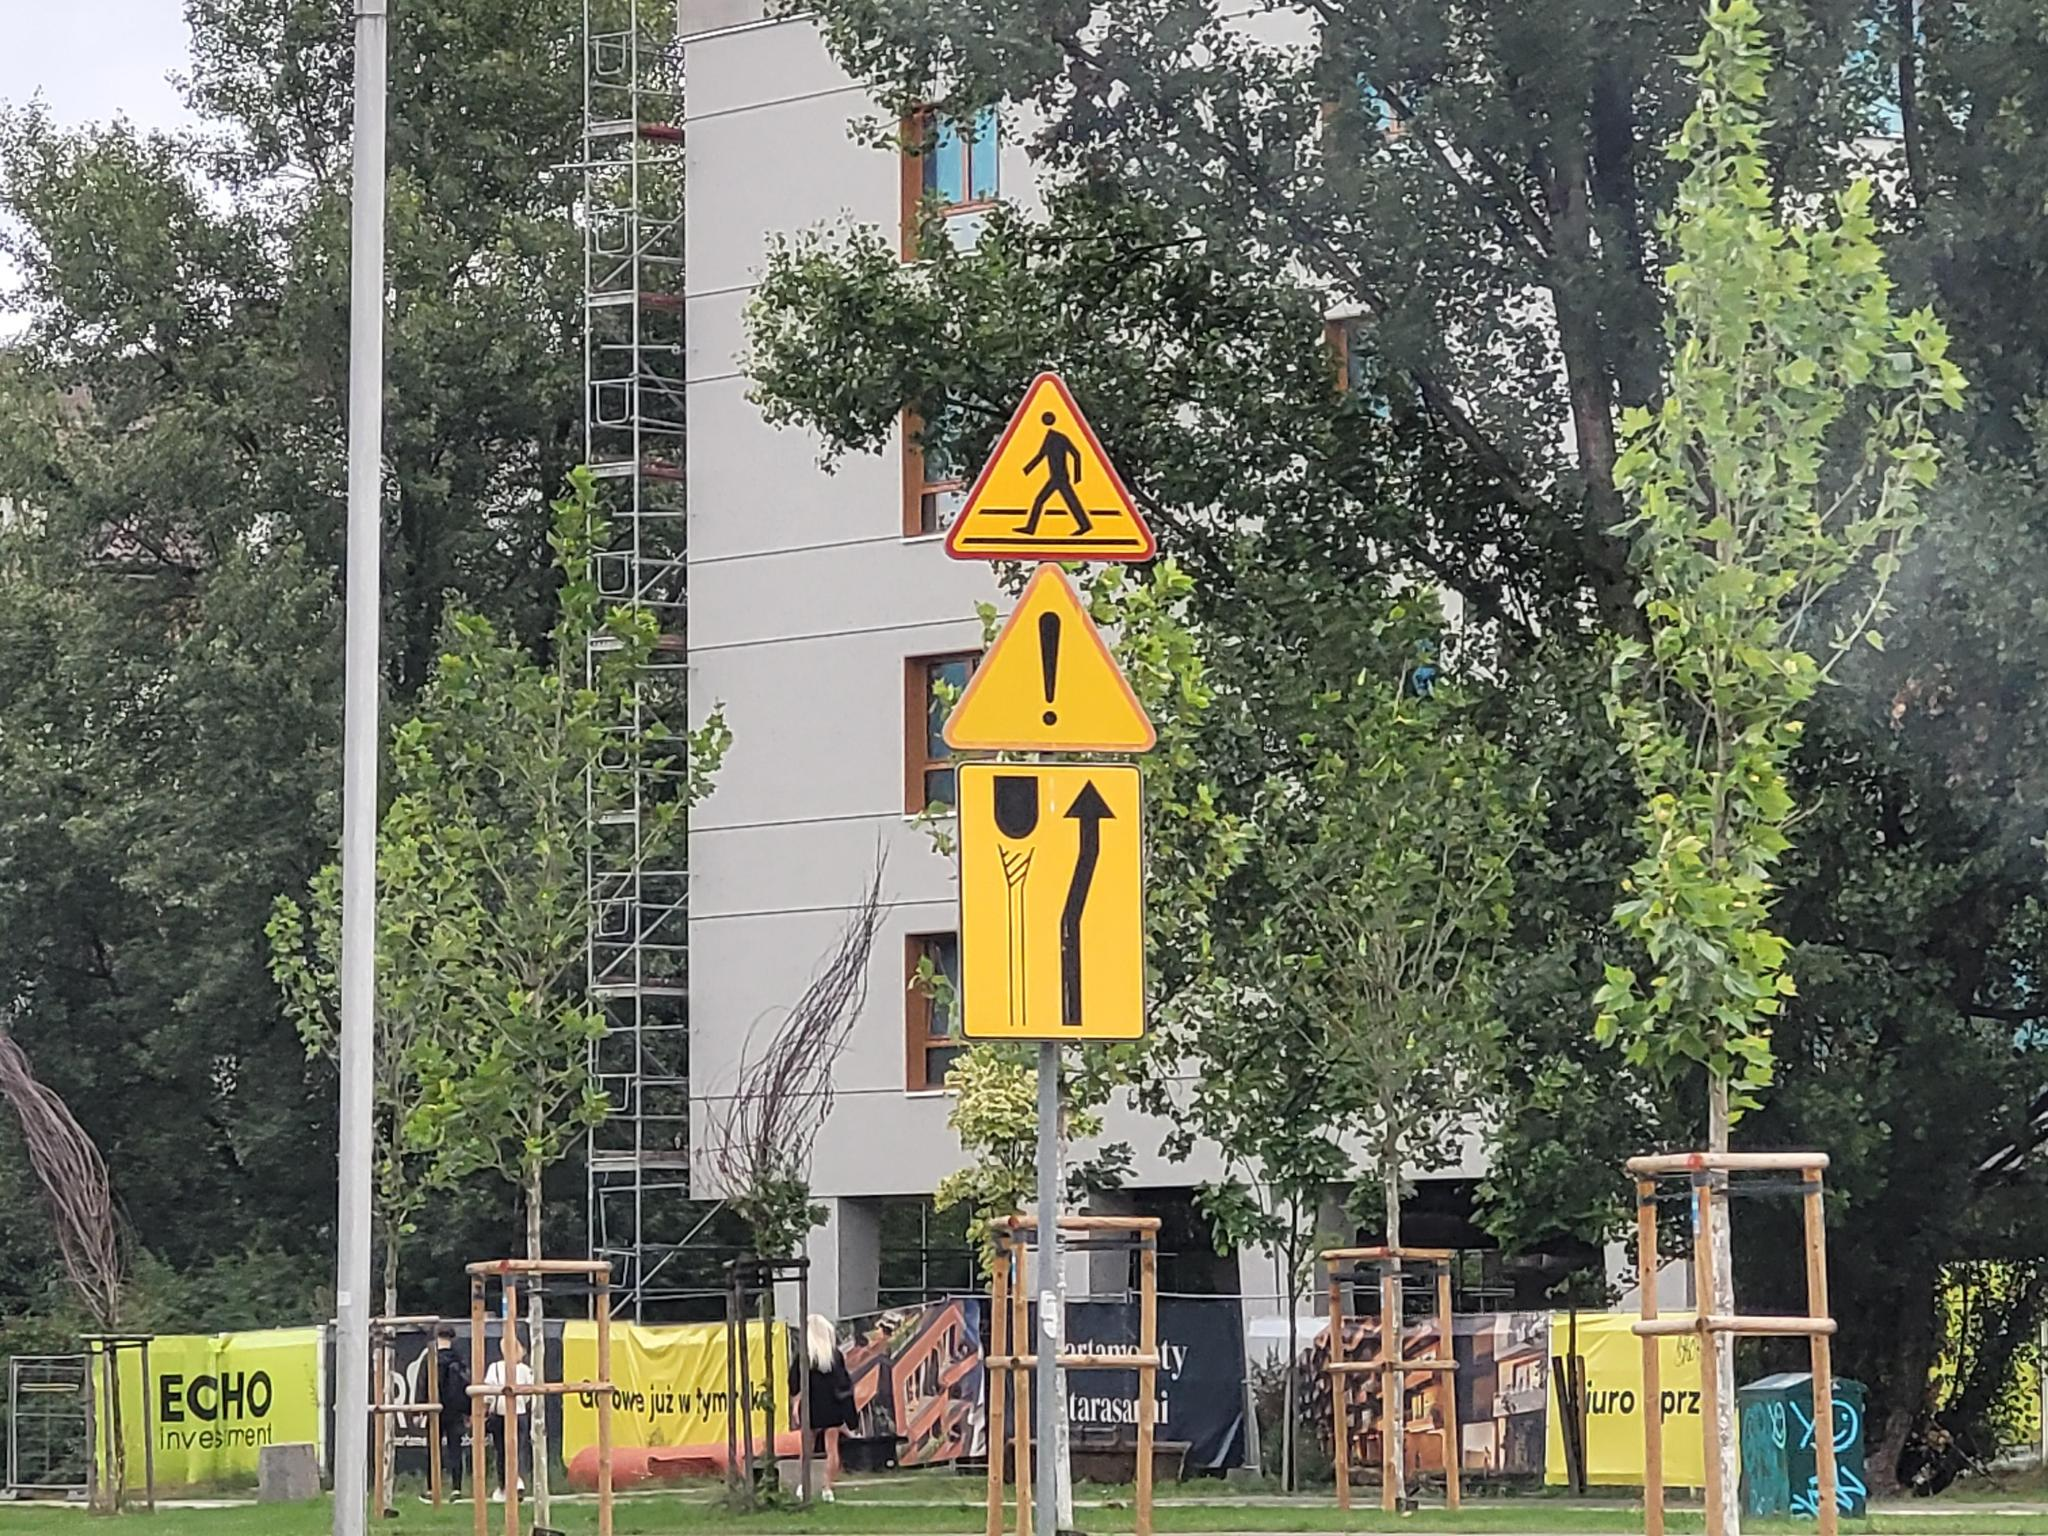other: (958, 765, 1142, 1034)
warning: (945, 558, 1158, 757), (942, 366, 1159, 560)
